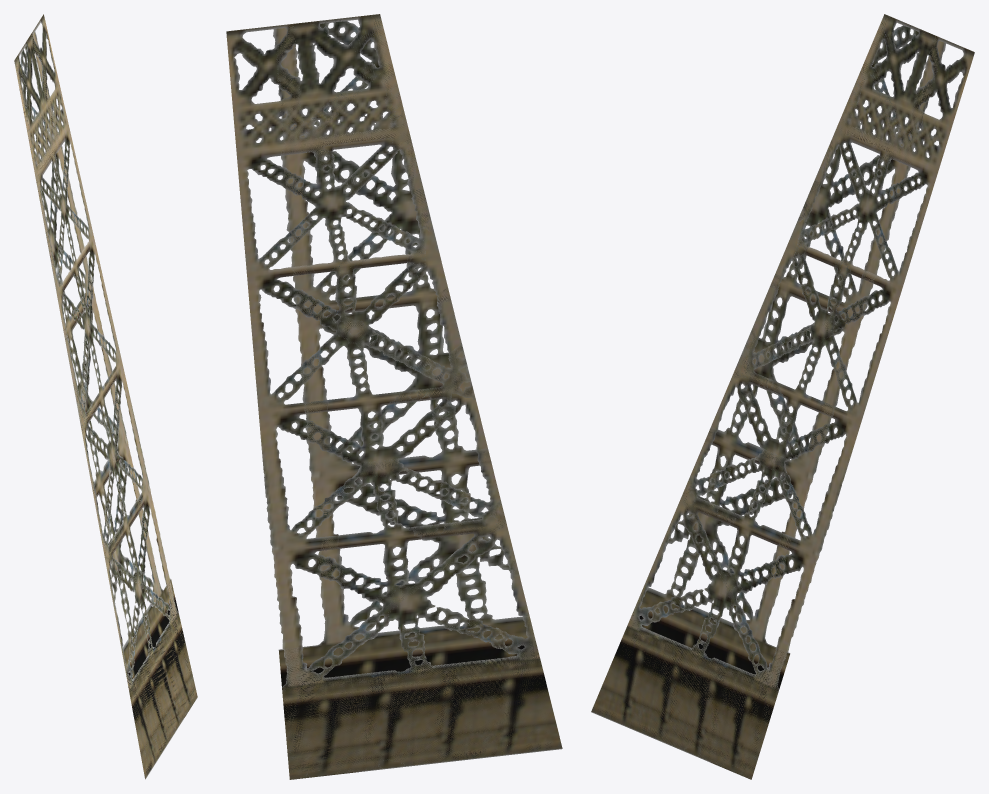
File: 埃菲尔铁塔23.dae
3 renders of one model, left to right at view 1: azimuth 30°, elevation 25°; view 2: azimuth 150°, elevation 25°; view 3: azimuth 270°, elevation 25°, orthographic. The views are drawn at different scales.
Visible parts, largest first — view 1: SketchUp; view 2: SketchUp; view 3: SketchUp.
Part boxes in pixels (x1=…): SketchUp: x1=14, y1=14, x2=197, y2=779; SketchUp: x1=226, y1=14, x2=562, y2=779; SketchUp: x1=591, y1=14, x2=974, y2=779.
Bounding box in the file's own units: 548 × 1312 × 2631.
Materials: 2 (2 with a texture image).
